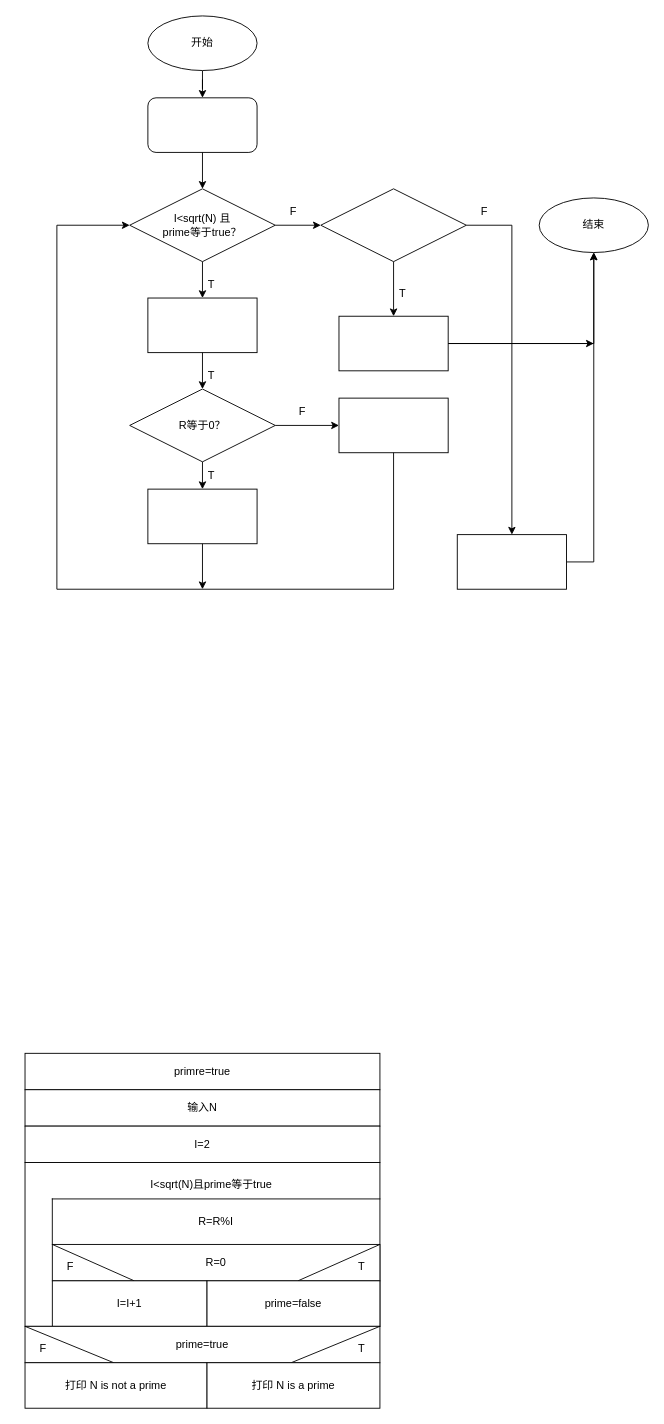
The diagram is 664 pixels wide and 1424 high, and some of its shapes have lost their labels. The shapes that lost their labels are listed below. From the top down, each one's centre as x and y in pixels, then its label:
(202,124): 初始化 prime赋值为true; 输入N； I=2;
(393,225): prime的值为true？
(202,325): R更新为R模除I
(393,343): 打印 N is a prime 即N是素数
(393,425): I的值加1
(202,516): prime赋值为false
(511,561): 打印 N is not a prime 即N不是素数
